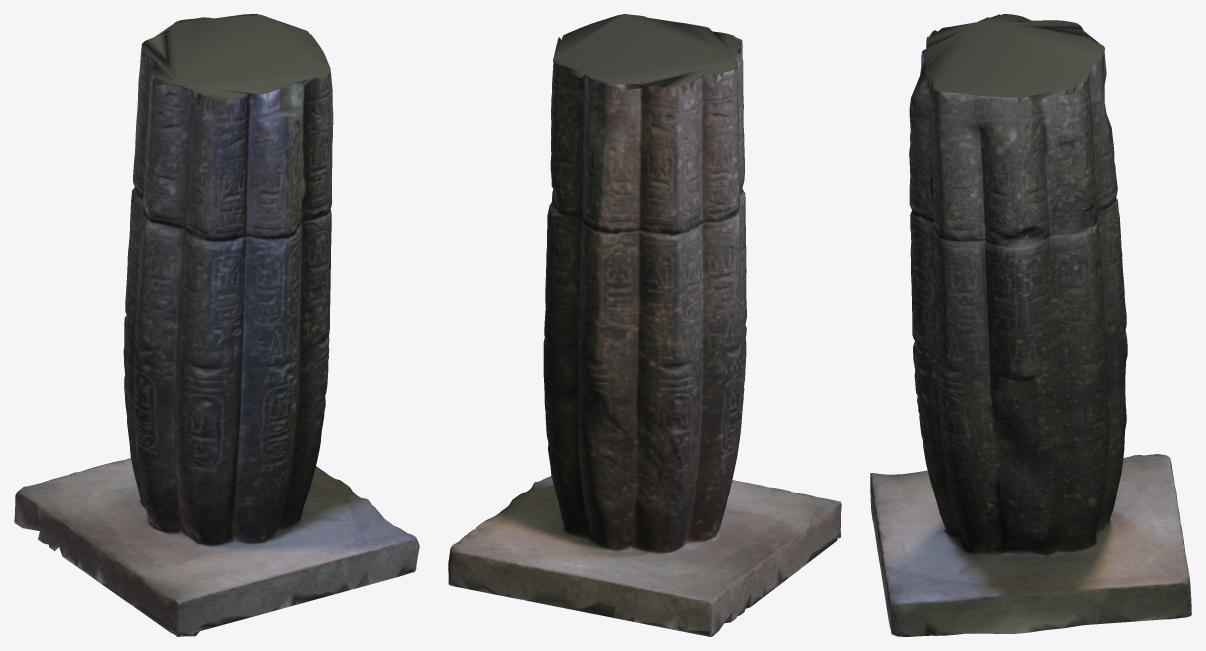
The model's file is sculpt.obj.
3 renders of one model, left to right at view 1: azimuth 30°, elevation 25°; view 2: azimuth 150°, elevation 25°; view 3: azimuth 270°, elevation 25°, orthographic. The views are drawn at different scales.
Bounding box in the file's own units: 16.82 × 29.96 × 16.72.
1 material, 1 textured.
